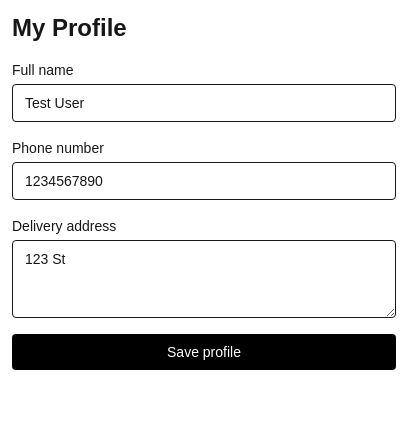
Test: ProfileForm › shows success message after submitting valid data
The width and height of the screenshot is (413, 423).
Replace the text in the field labelled "Full name" with "Updated Name" at (204, 103), box [12,84,396,122]
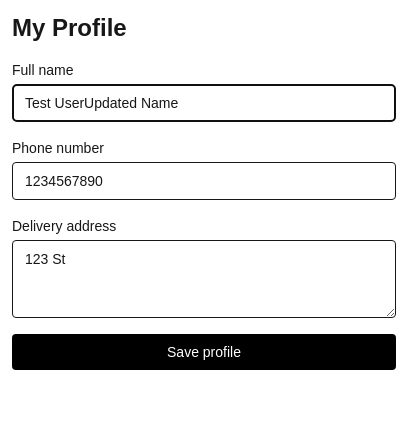
Click the button "Save profile" at (204, 352), box [12,334,396,370]
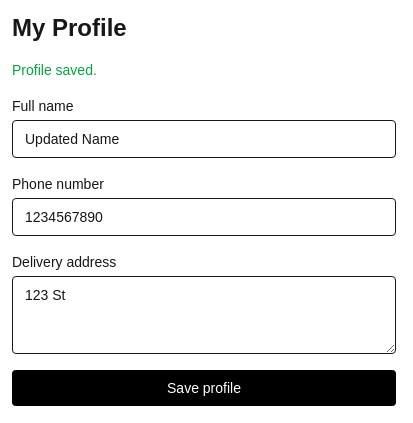
Now the message reads "Profile saved.", box [12,62,97,78]
